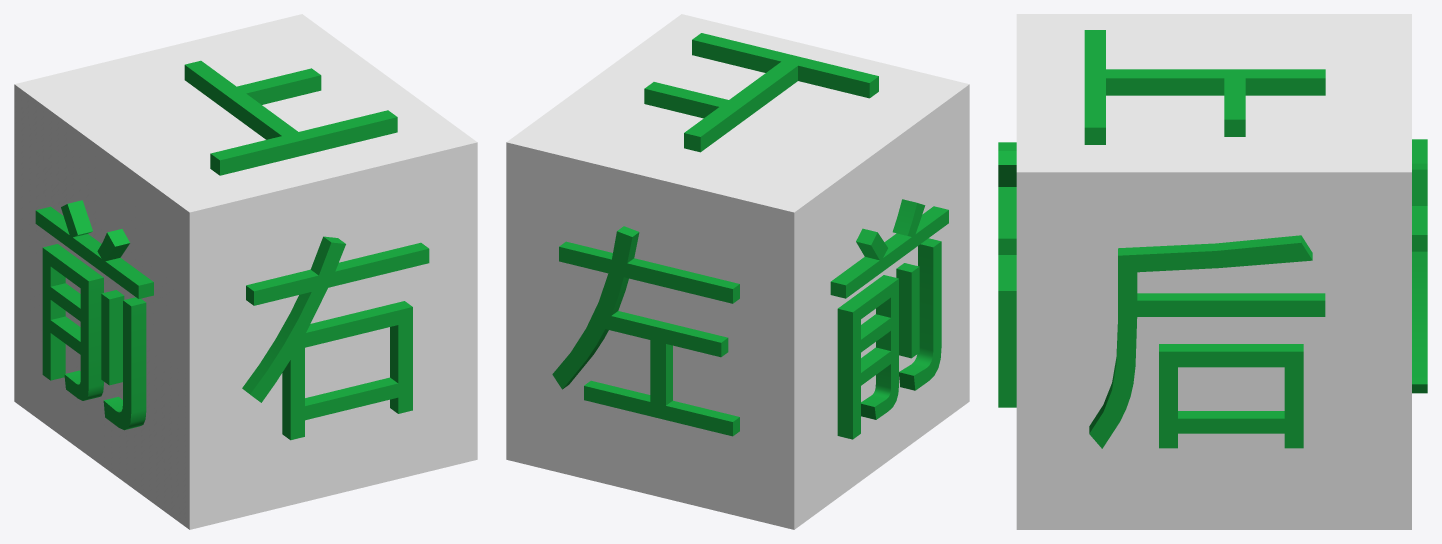
The model's file is way.dae.
The picture shows the model from 3 angles, left to right: view 1: azimuth 30°, elevation 25°; view 2: azimuth 150°, elevation 25°; view 3: azimuth 270°, elevation 25°; orthographic projection. The views are drawn at different scales.
Visible parts, largest first — view 1: SketchUp, 前_2 (×6), 右 (×2), 上; view 2: SketchUp, 前_2 (×6), 左, 上; view 3: SketchUp, 后_1 (×3), 上, 右, 左.
Part boxes in pixels (bbox=[...]): SketchUp: bbox=[14, 14, 477, 529]; 前_2 (×6): bbox=[35, 200, 153, 430]; 右 (×2): bbox=[242, 236, 429, 440]; 上: bbox=[184, 60, 397, 175]; SketchUp: bbox=[506, 14, 969, 529]; 前_2 (×6): bbox=[830, 199, 948, 439]; 左: bbox=[552, 226, 739, 436]; 上: bbox=[644, 33, 878, 152]; SketchUp: bbox=[1016, 14, 1411, 529]; 后_1 (×3): bbox=[1089, 235, 1325, 448]; 上: bbox=[1084, 30, 1325, 144]; 右: bbox=[998, 142, 1016, 407]; 左: bbox=[1412, 139, 1427, 393].
Bounding box in the file's own units: 6.26 × 6.52 × 6.51.
